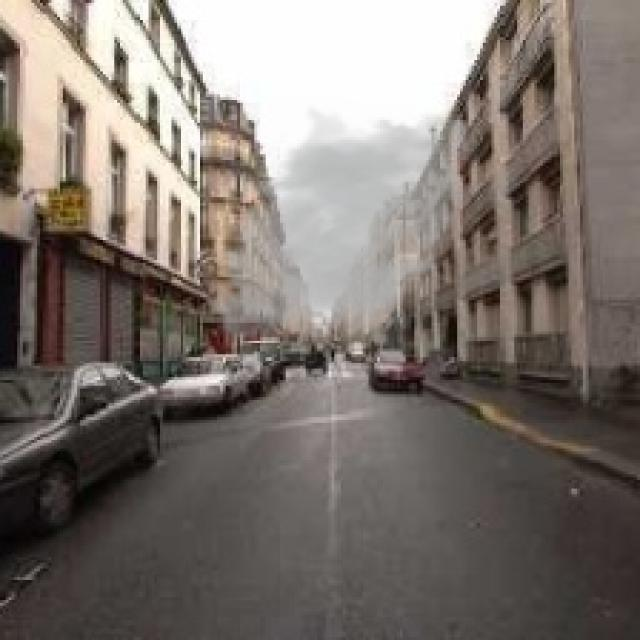smoke: (209, 94, 480, 366)
